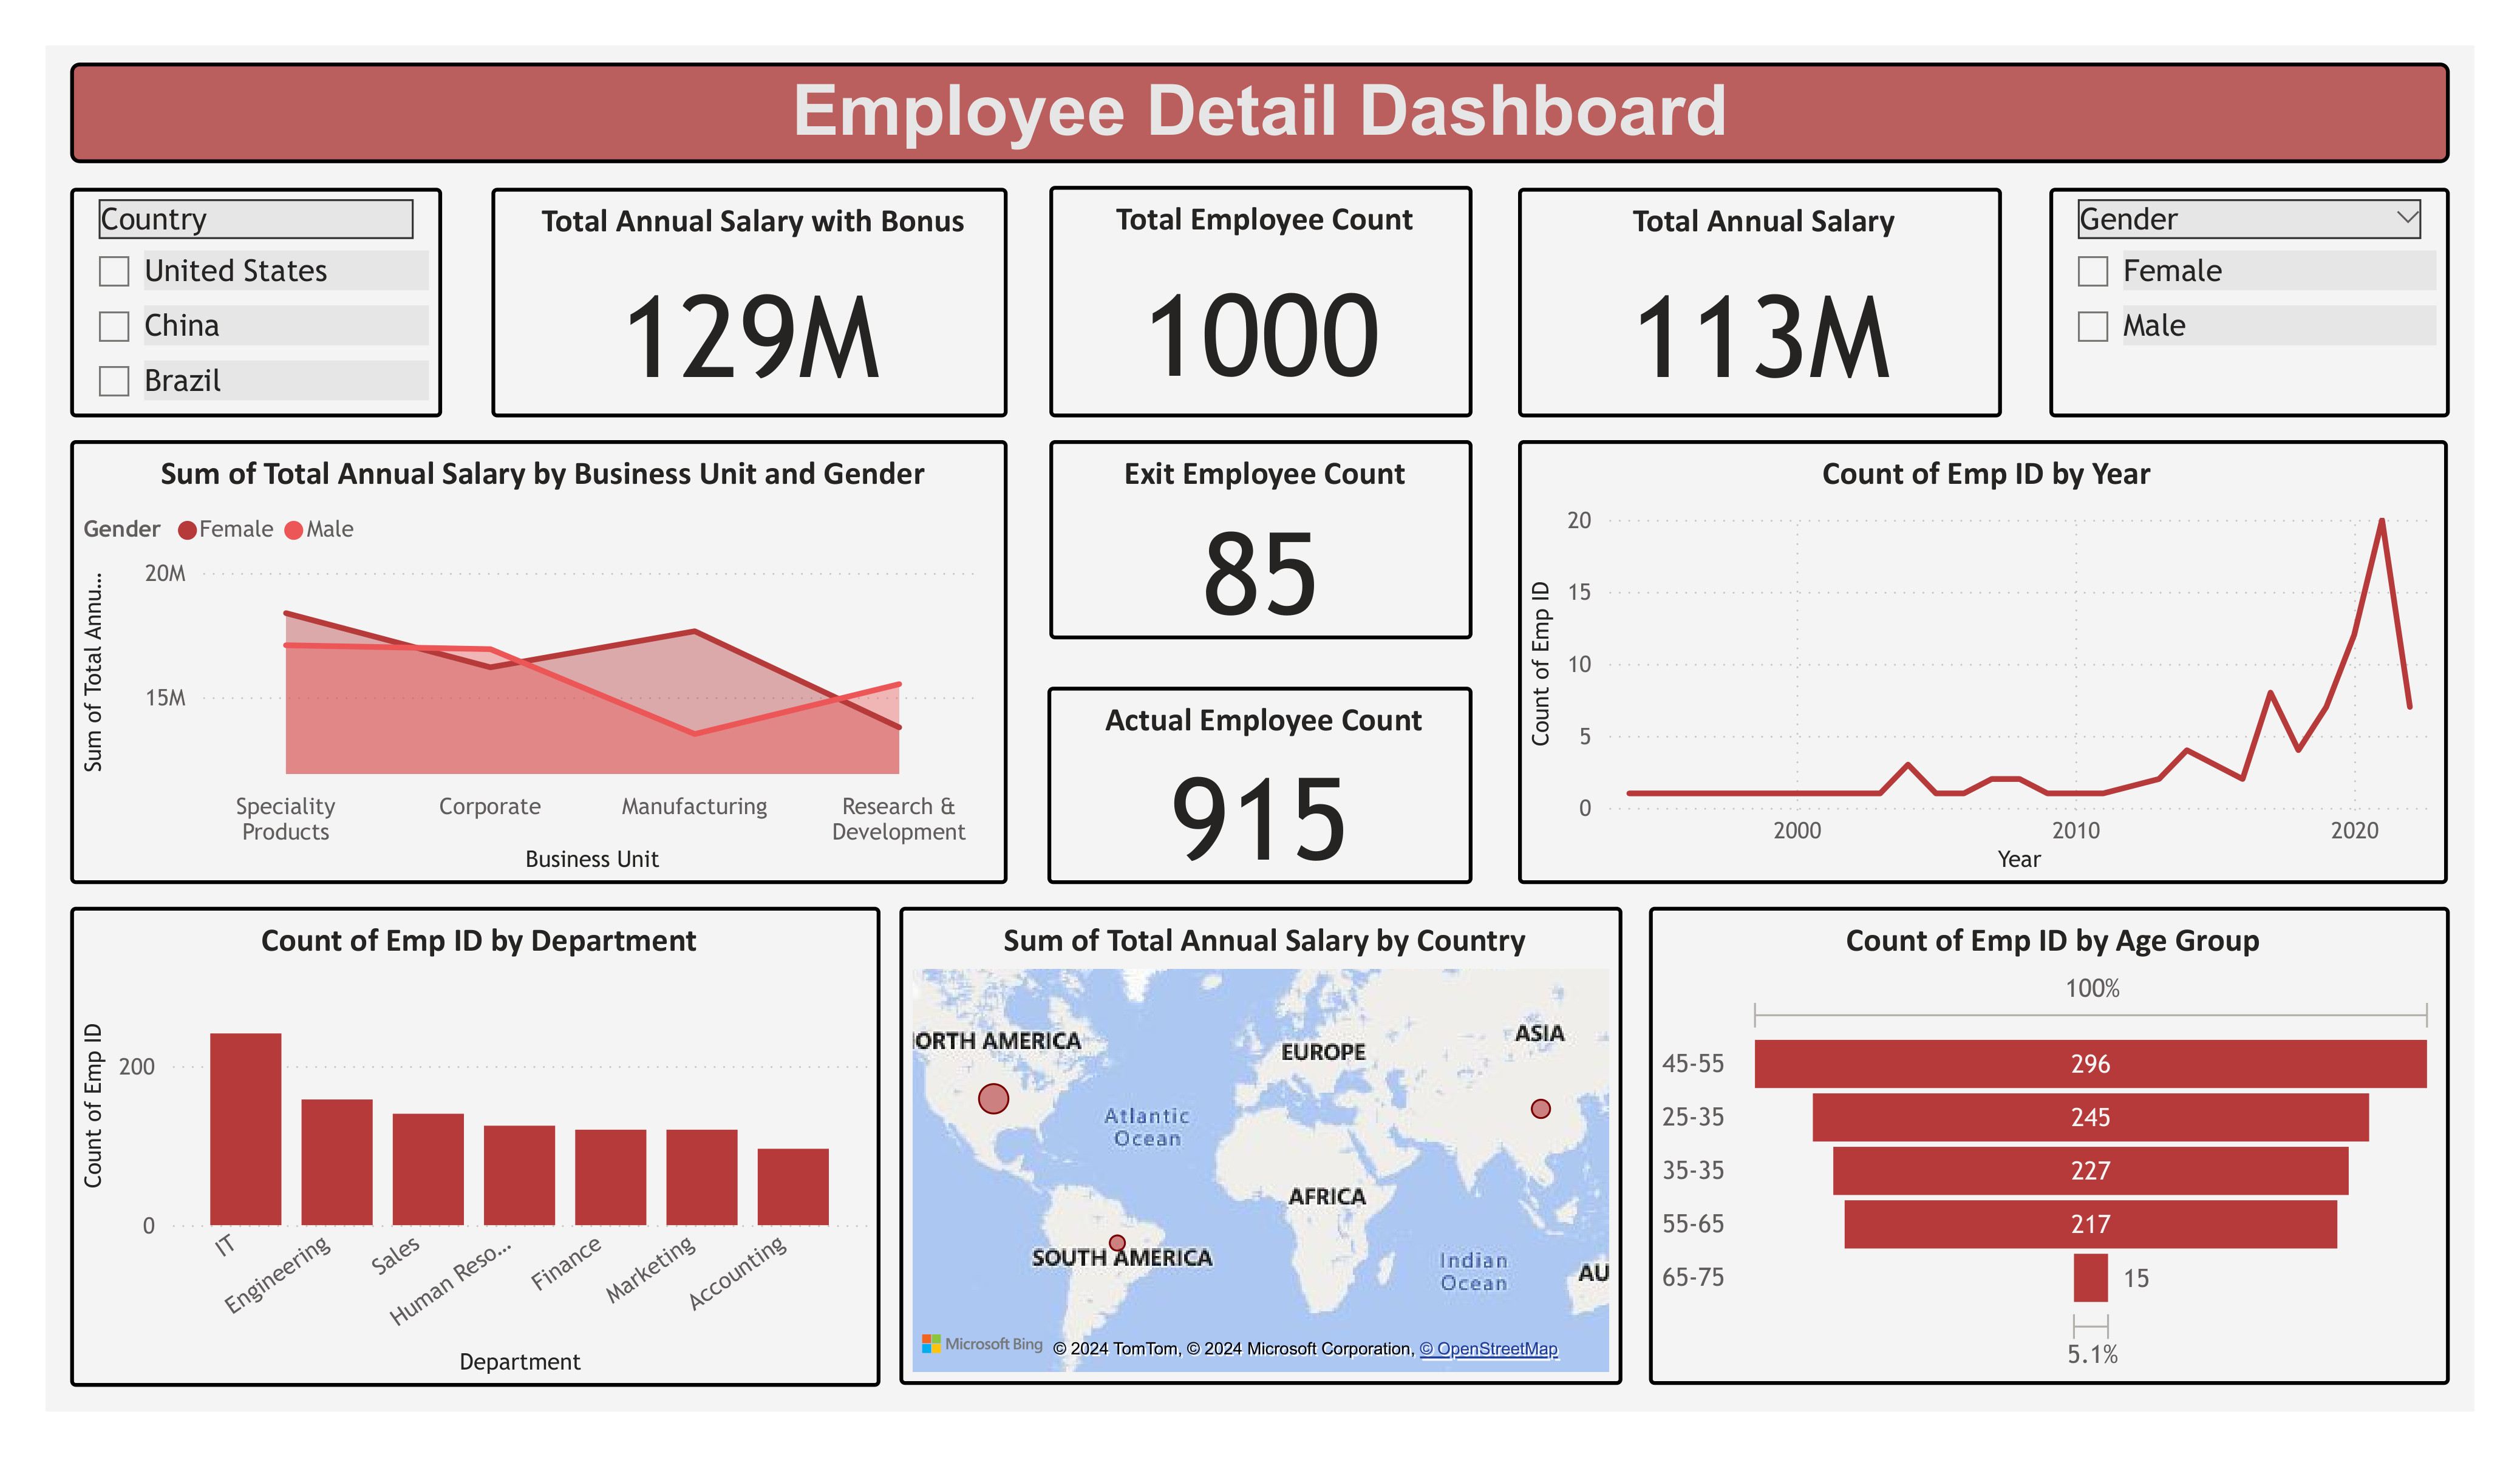

The page's visual inventory and layout, read from the dashboard file:
{"tool":"powerbi","page":{"name":"Page 1","canvas":[1280,720],"ordinal":0},"visuals":[{"type":"textbox","box":[12.9,9.4,1254.1,52.9],"z":0},{"type":"card","title":"Total  Annual Salary with Bonus","fields":{"Values":["Sum(Sheet1.Total Annual Salary)"]},"box":[234.9,74.7,271.7,121],"z":1000},{"type":"card","title":"Total Employee Count","fields":{"Values":["CountNonNull(Sheet1.Emp ID.1)"]},"box":[529.2,73.6,223.1,122.2],"z":2000},{"type":"card","title":"Exit Employee Count","fields":{"Values":["CountNonNull(Sheet1.Exit Date)"]},"box":[529.4,208.2,222.4,104.7],"z":3000},{"type":"card","title":"Actual Employee Count","fields":{"Values":["Sum(Sheet1.Actual Exit)"]},"box":[528,325,224,117],"z":4000},{"type":"card","title":"Total Annual Salary","fields":{"Values":["Sum(Sheet1.Annual Salary)"]},"box":[776,74.7,255.1,121],"z":5000},{"type":"lineChart","fields":{"Y":["CountNonNull(Sheet1.Emp ID)"],"Category":["Sheet1.Exit Date.Variation.Date Hierarchy.Year"]},"box":[776.5,208.2,489.4,234.1],"z":6000},{"type":"columnChart","fields":{"Y":["CountNonNull(Sheet1.Emp ID)"],"Category":["Sheet1.Department"]},"box":[12.9,454.1,427.1,252.9],"z":7000},{"type":"map","fields":{"Category":["Sheet1.Country"],"Size":["Sum(Sheet1.Total Annual Salary)"]},"box":[450,453.6,381,252.4],"z":8000},{"type":"funnel","fields":{"Category":["Sheet1.Age Group"],"Y":["CountNonNull(Sheet1.Emp ID)"]},"box":[845.2,453.6,421.4,252.4],"z":9000},{"type":"areaChart","fields":{"Category":["Sheet1.Business Unit"],"Y":["Sum(Sheet1.Total Annual Salary)"],"Series":["Sheet1.Gender"]},"box":[12.9,208.2,494.1,234.1],"z":10000},{"type":"slicer","fields":{"Values":["Sheet1.Gender"]},"box":[1056,74.7,211.2,121],"z":11000},{"type":"slicer","fields":{"Values":["Sheet1.Country"]},"box":[12.9,75.3,196.5,121.2],"z":12000}]}

Visuals, with their boxes on the page's 1280x720 design canvas (x1, y1, x2, y2). These are canvas units, not pixel positions in the 2520x1457 screenshot, which may show the page scaled, cropped or inside an application window:
textbox: x1=13 y1=9 x2=1267 y2=62
"Total  Annual Salary with Bonus" card: x1=235 y1=75 x2=507 y2=196
"Total Employee Count" card: x1=529 y1=74 x2=752 y2=196
"Exit Employee Count" card: x1=529 y1=208 x2=752 y2=313
"Actual Employee Count" card: x1=528 y1=325 x2=752 y2=442
"Total Annual Salary" card: x1=776 y1=75 x2=1031 y2=196
lineChart - CountNonNull(Sheet1.Emp ID) x Sheet1.Exit Date.Variation.Date Hierarchy.Year: x1=776 y1=208 x2=1266 y2=442
columnChart - CountNonNull(Sheet1.Emp ID) x Sheet1.Department: x1=13 y1=454 x2=440 y2=707
map - Sheet1.Country x Sum(Sheet1.Total Annual Salary): x1=450 y1=454 x2=831 y2=706
funnel - Sheet1.Age Group x CountNonNull(Sheet1.Emp ID): x1=845 y1=454 x2=1267 y2=706
areaChart - Sheet1.Business Unit x Sum(Sheet1.Total Annual Salary): x1=13 y1=208 x2=507 y2=442
slicer - Sheet1.Gender: x1=1056 y1=75 x2=1267 y2=196
slicer - Sheet1.Country: x1=13 y1=75 x2=209 y2=196
